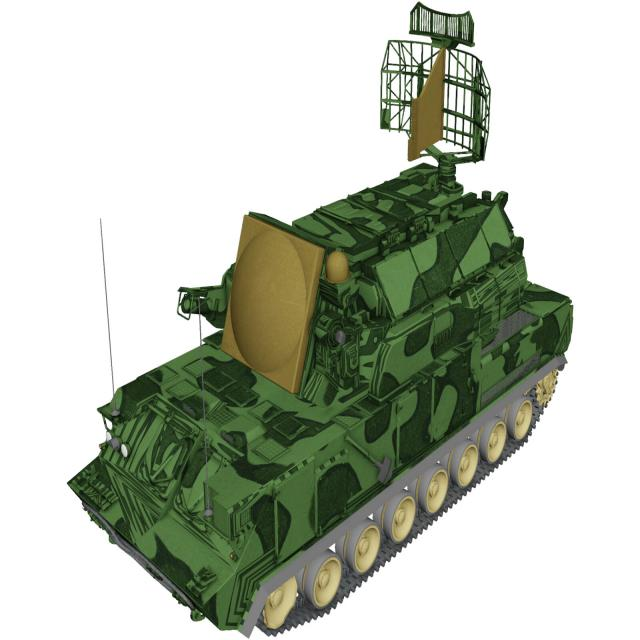MIL_EW_RDR: (65, 10, 572, 626)
